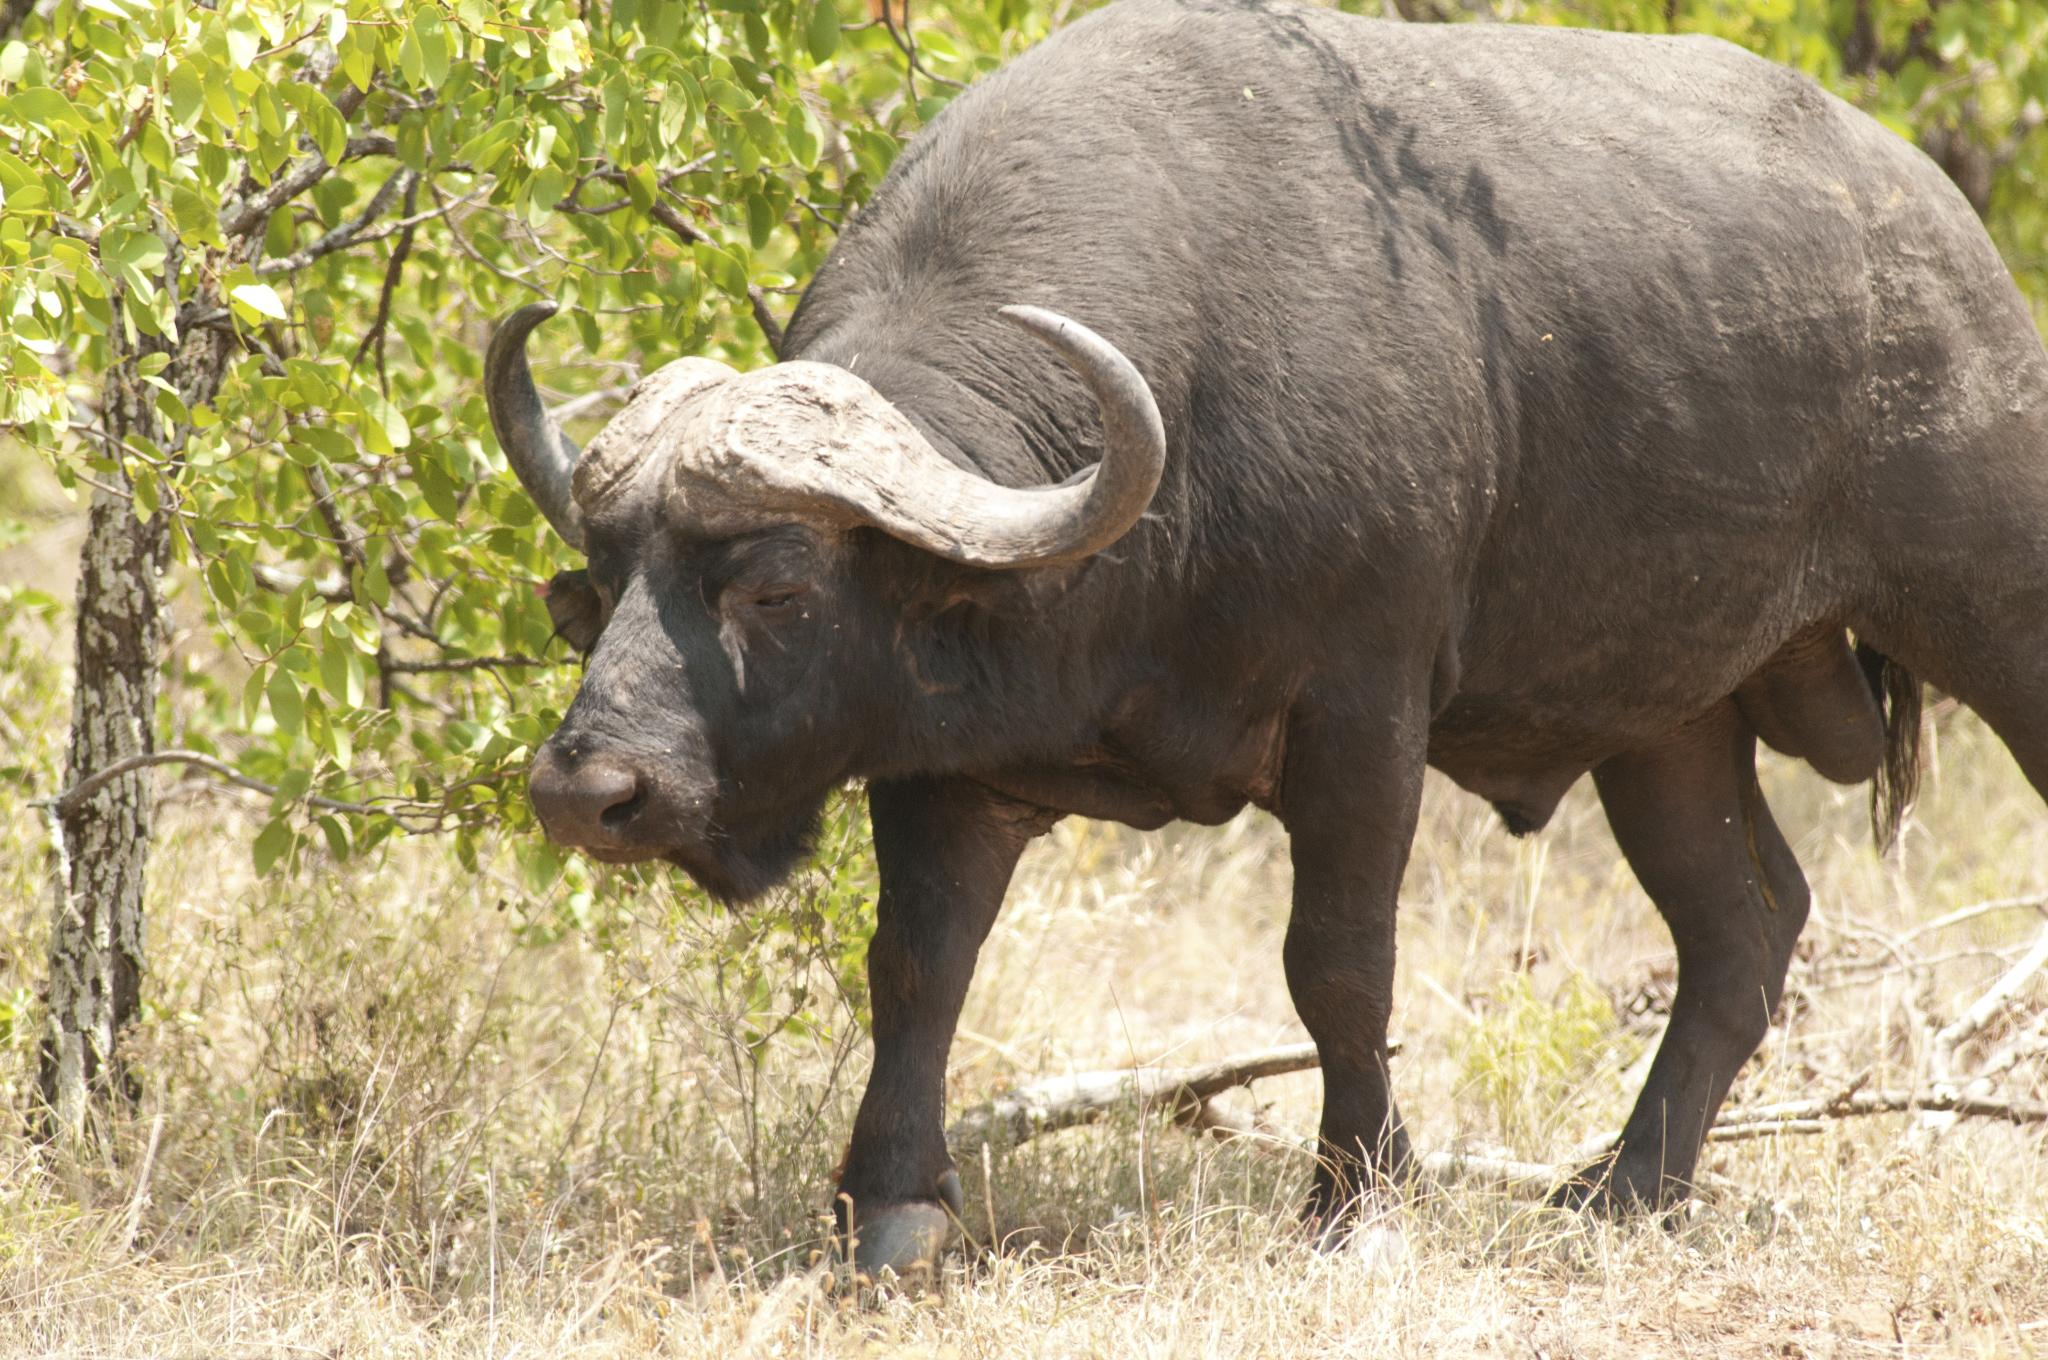Buffalo: (67, 0, 2048, 1229)
